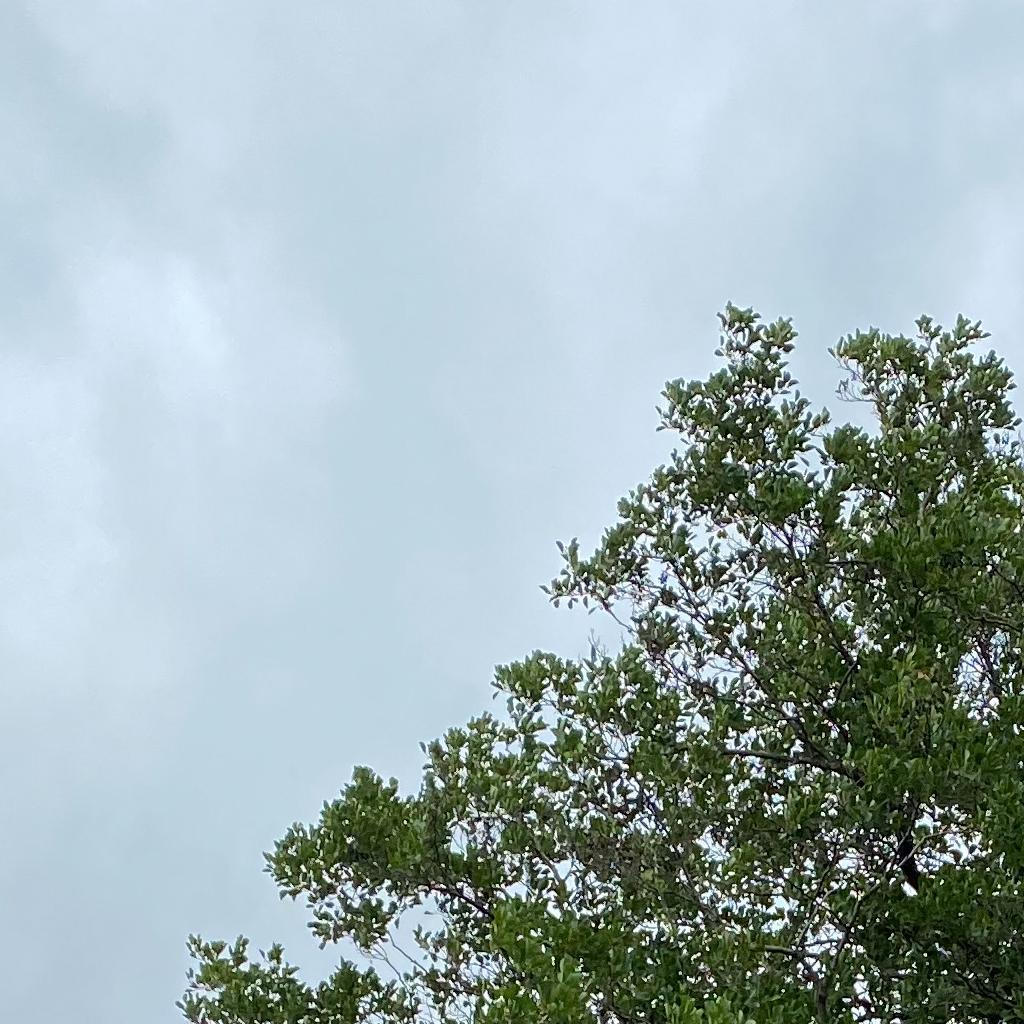tree: (174, 299, 1023, 1023)
